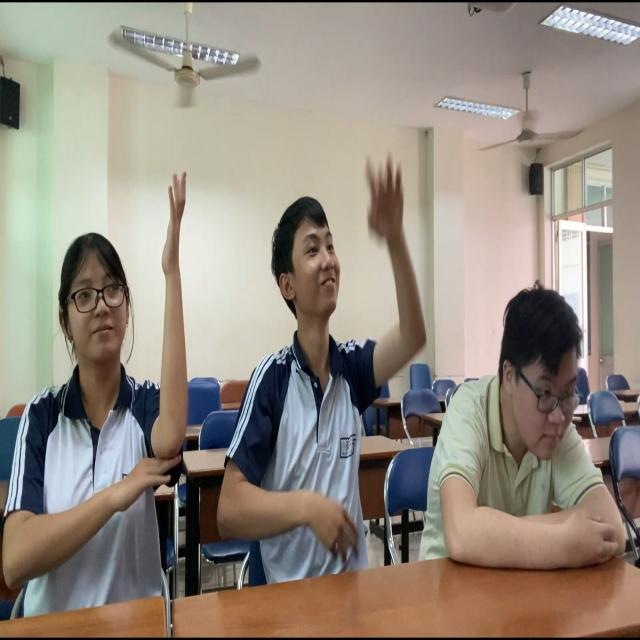raise_hand: (3, 171, 193, 613)
